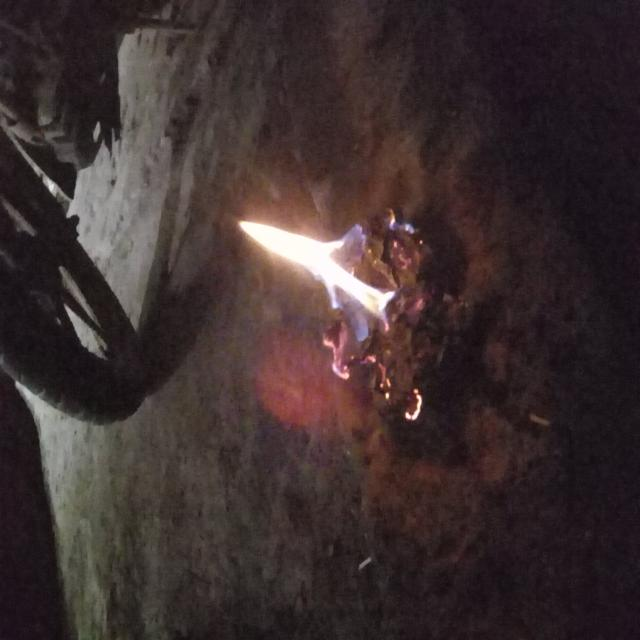Fire: (163, 331, 259, 540)
